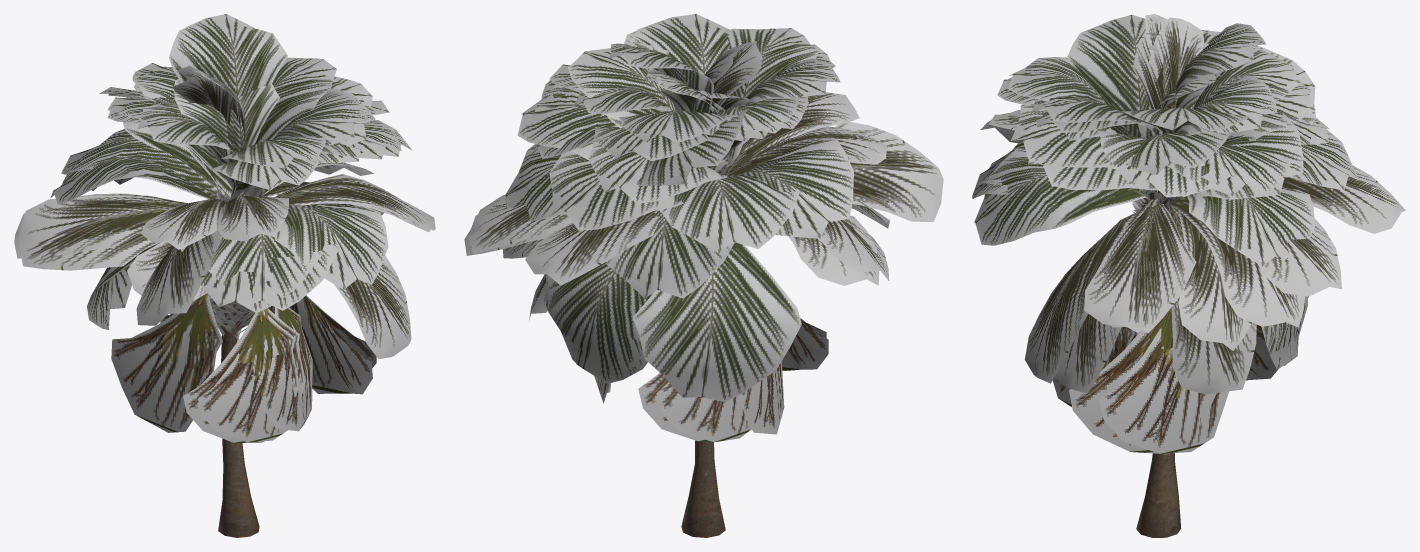
File: patrick-palm-tree.glb
3 renders of one model, left to right at view 1: azimuth 30°, elevation 25°; view 2: azimuth 150°, elevation 25°; view 3: azimuth 270°, elevation 25°, orthographic. The views are drawn at different scales.
Visible parts, largest first — view 1: Bark, Trunk; view 2: Bark, Trunk; view 3: Bark, Trunk.
Part boxes in pixels (box(x1,y1,x2,y2)): Bark: box(14, 14, 435, 442); Trunk: box(218, 325, 259, 537); Bark: box(464, 14, 943, 442); Trunk: box(681, 440, 725, 537); Bark: box(972, 14, 1405, 454); Trunk: box(1136, 200, 1181, 537).
Size of the model in its own units: 0.1805 by 0.2184 by 0.1718.
Materials: 2 (2 with a texture image).
